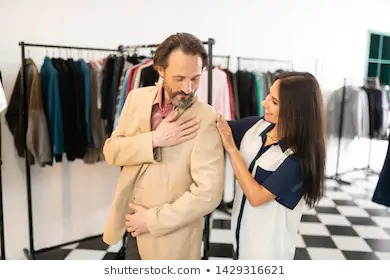F_M_suit jacket: (99, 82, 227, 259)
